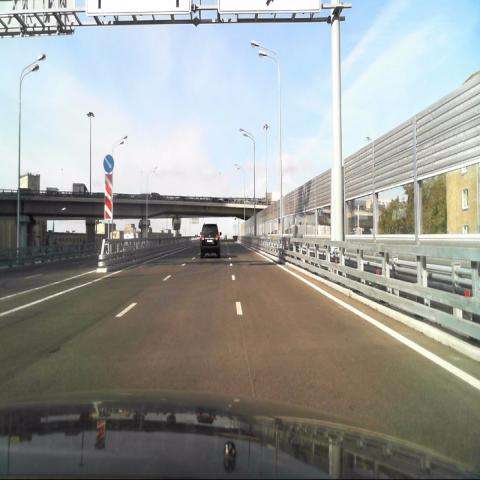4_2_1: (103, 154, 114, 172)
